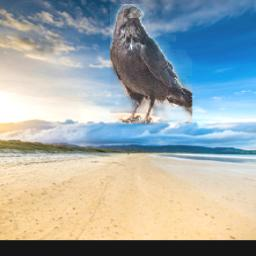Crow: (111, 5, 193, 125)
